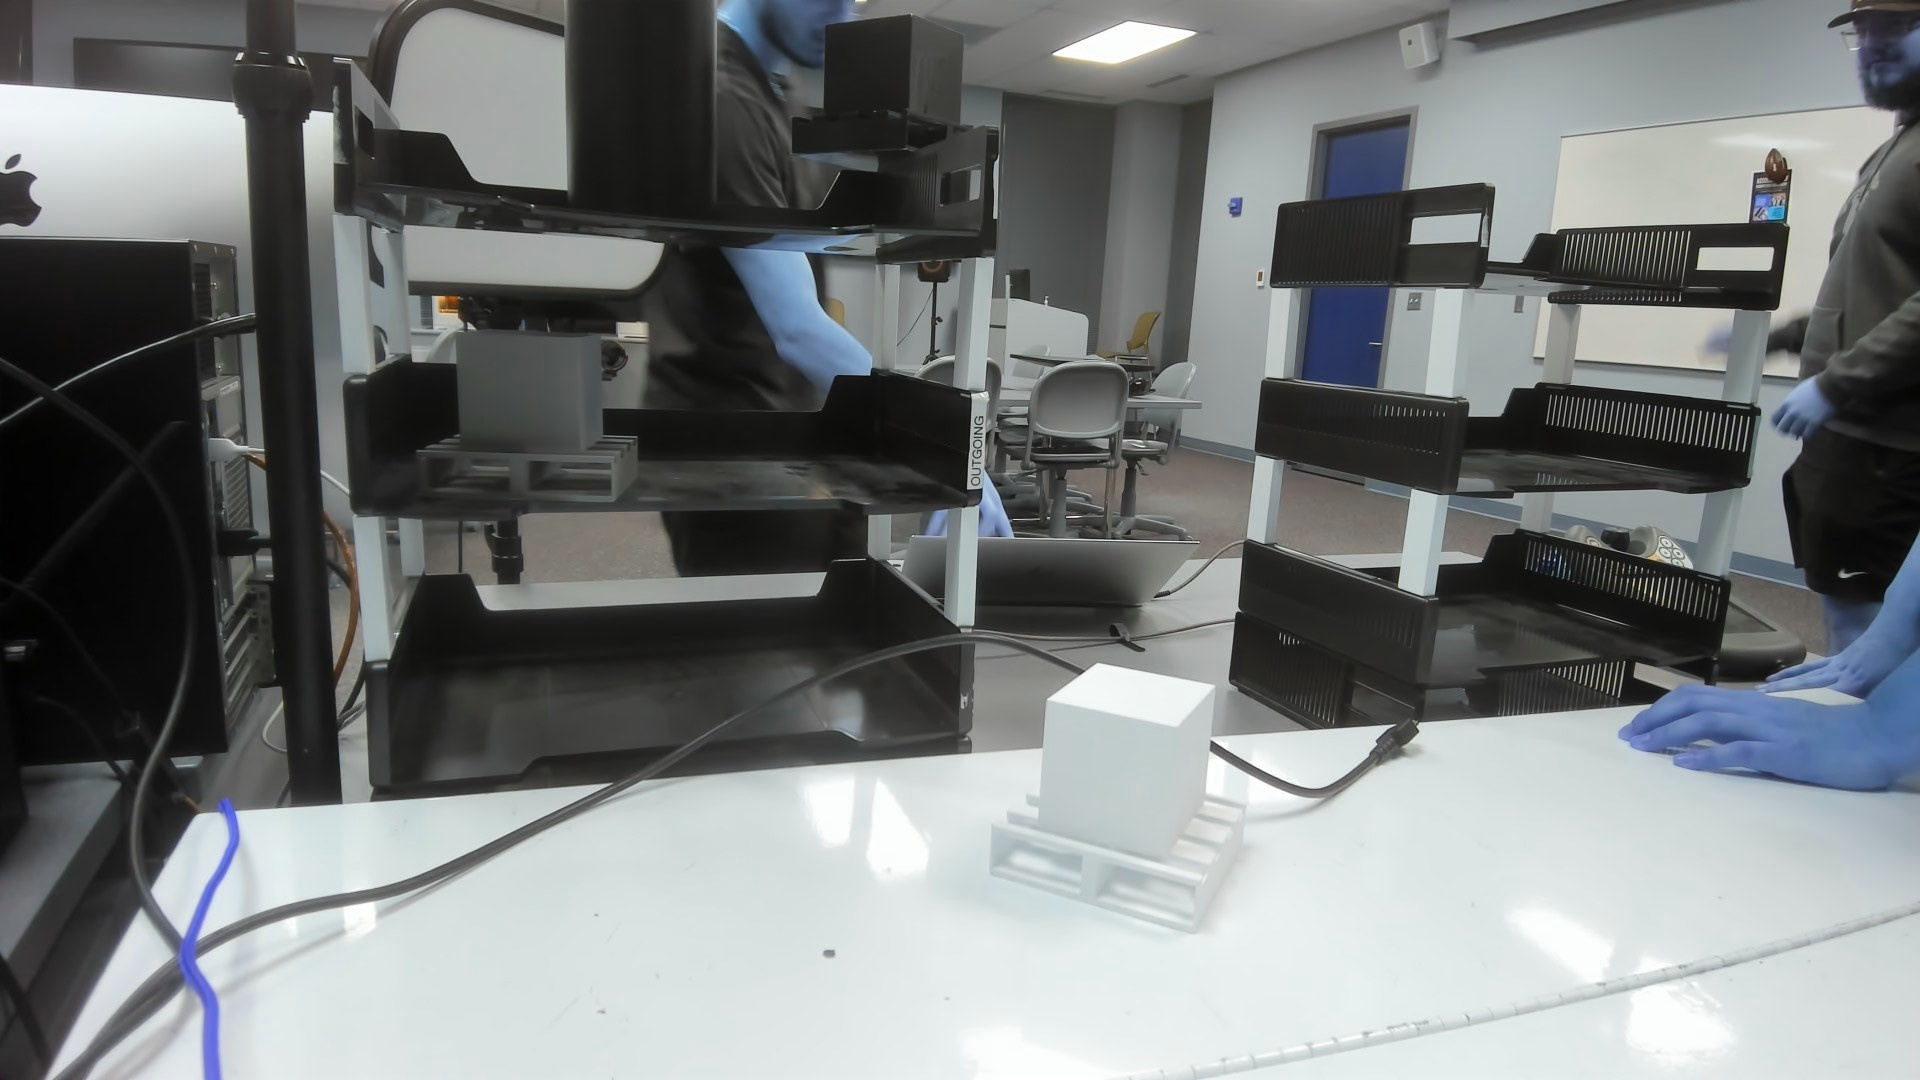black pallet: (786, 8, 1000, 179)
grey pallet: (406, 327, 644, 508)
white pallet: (984, 657, 1254, 940)
